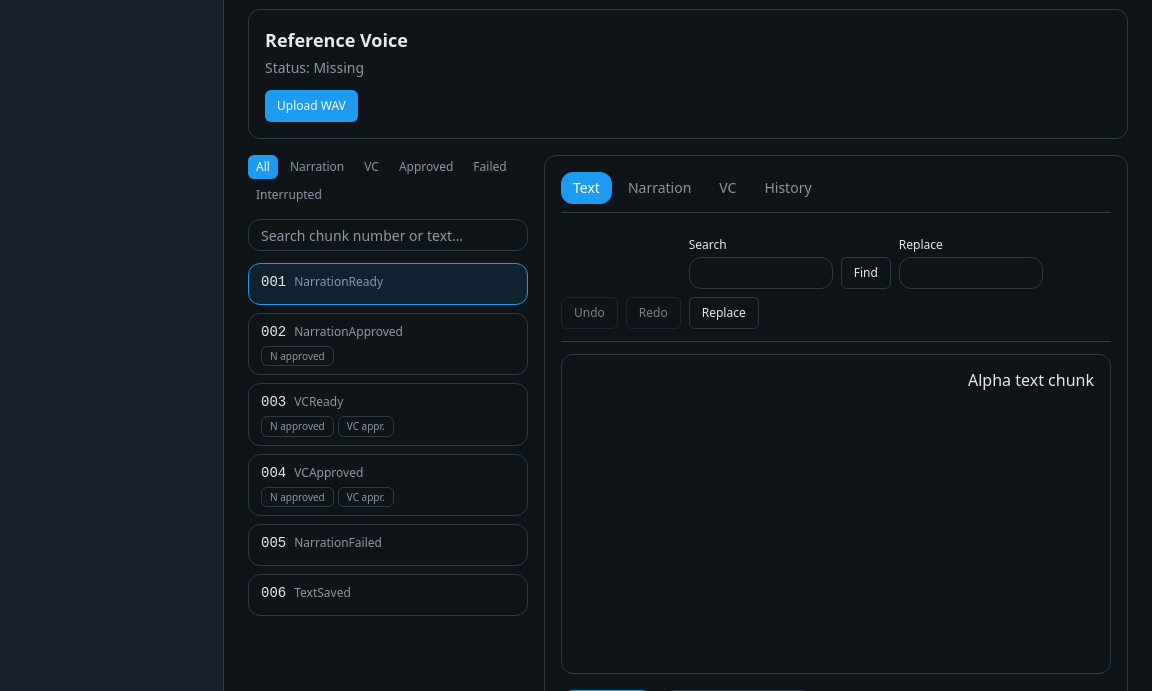
E9.2-A Reference Voice › disables VC when reference missing
(page scrolled)
Click the button with test id "chunk-row-2". click: (349, 332)
box: [248, 313, 528, 375]
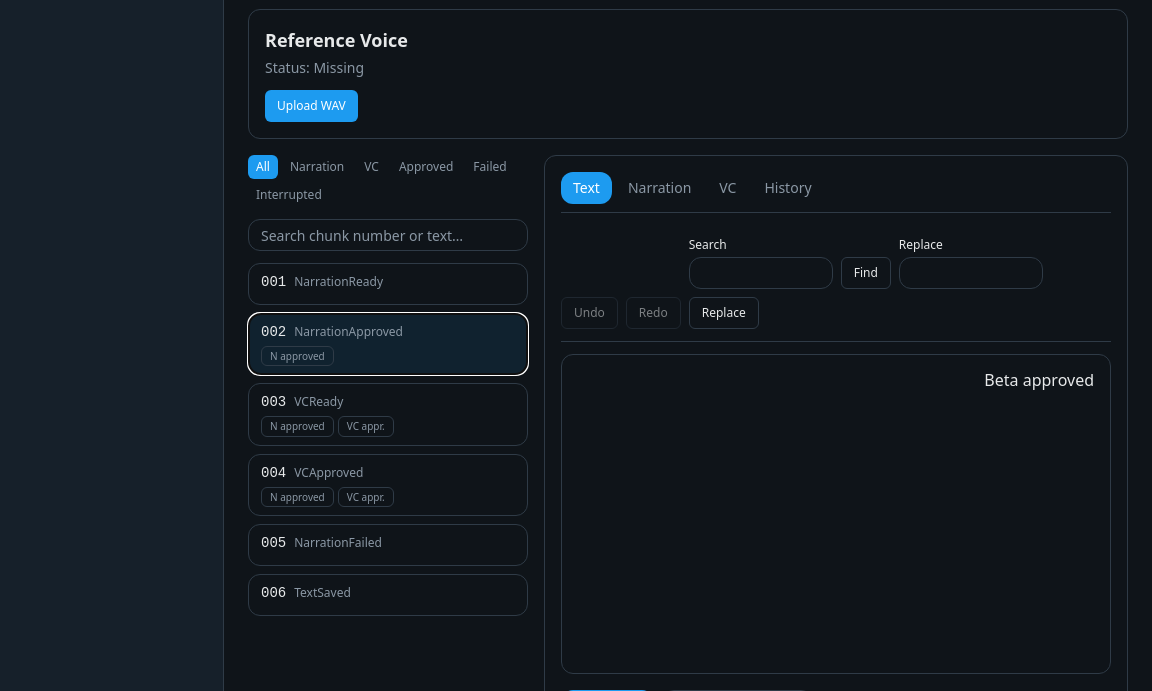
Click the tab "VC". click: (728, 188)
box: [707, 172, 748, 204]
(page scrolled)
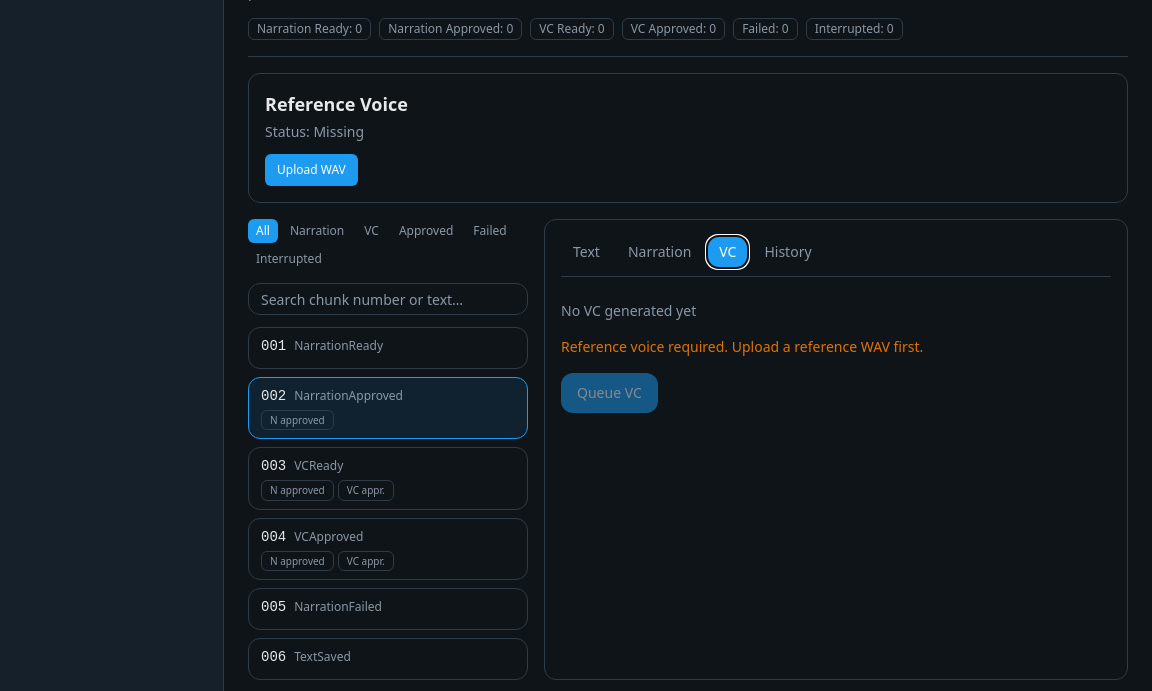
Now the text "Reference voice required. Upload a reference WAV first." is shown, box [561, 337, 923, 356]
Now the button "Queue VC" is disabled, box [561, 373, 658, 413]
